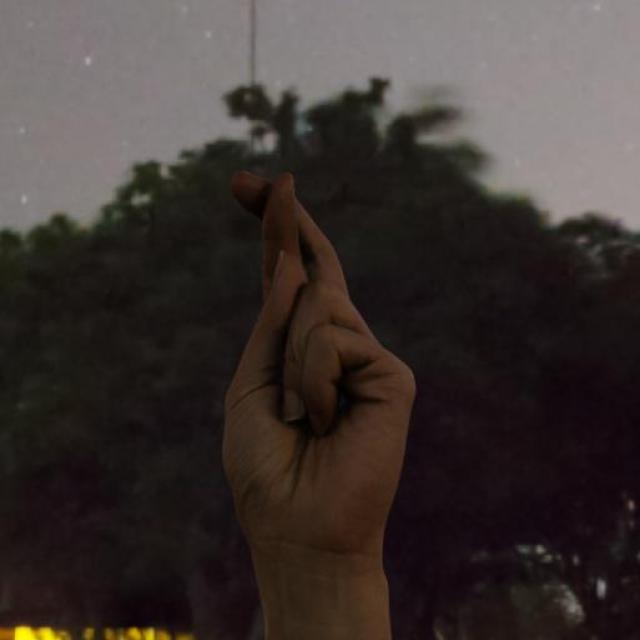R: (209, 165, 422, 567)
